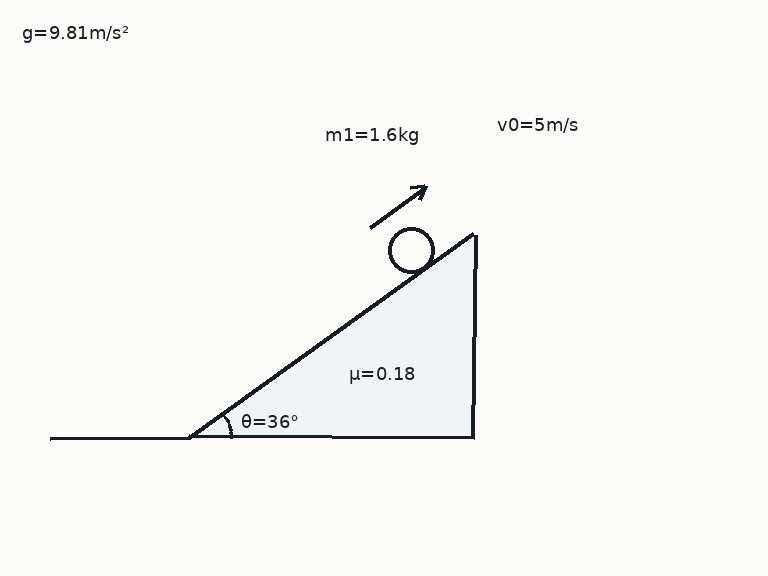ball: (386, 225, 436, 275)
ramp: (189, 231, 475, 440)
